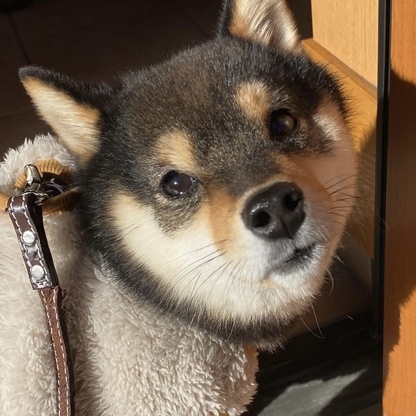shiba: (5, 1, 366, 358)
